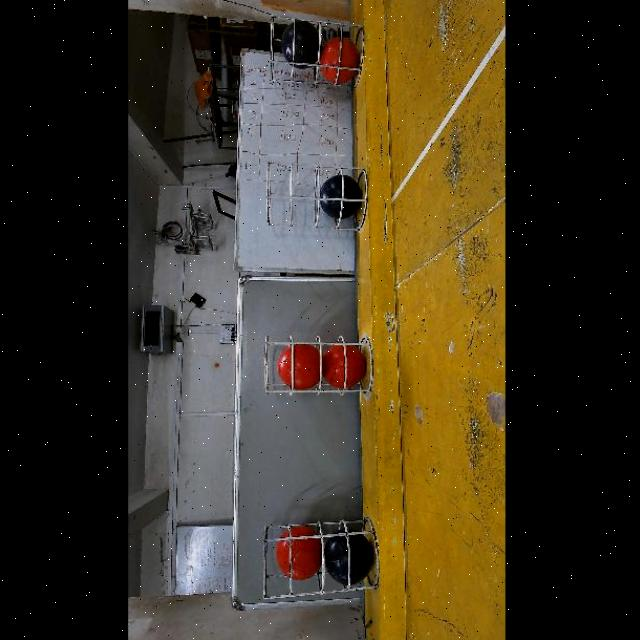P: (325, 530, 372, 587), (319, 173, 363, 219), (281, 20, 319, 70)
R: (274, 526, 321, 581), (323, 345, 366, 390), (277, 345, 319, 391), (319, 37, 358, 84)
S: (265, 524, 389, 594), (260, 163, 366, 227), (262, 332, 374, 392), (264, 24, 360, 84)
